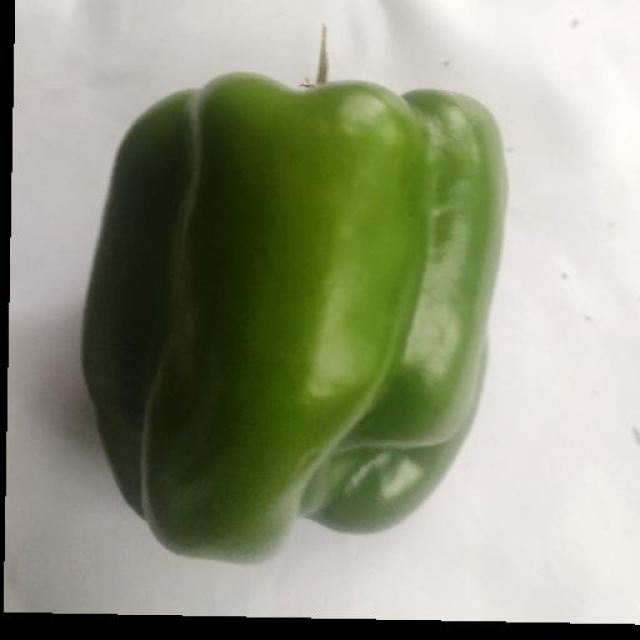Stale_Capsicum: (100, 71, 260, 487)
